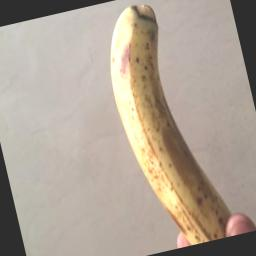Banana Ripe: (86, 0, 240, 256)
